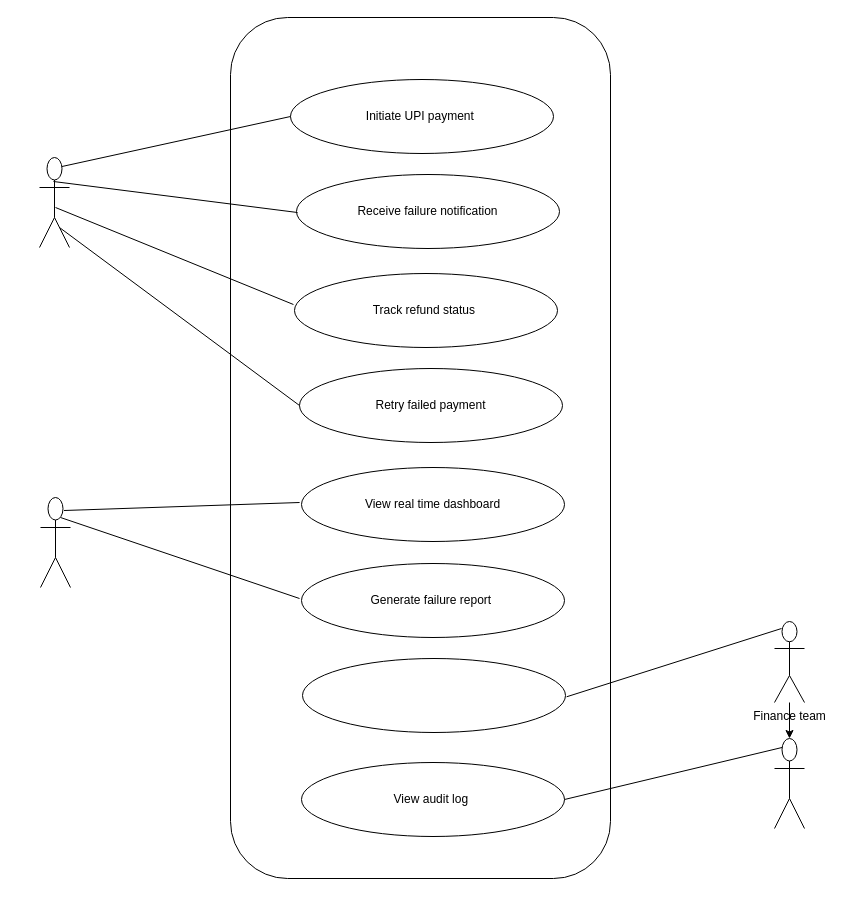
Image size: 856x904. Some labels were removed from this diagram. Each missing label, with the centre of its shape:
"Compliance officer" goes at point (789, 783).
"Customer" goes at point (54, 202).
"Ops manager" goes at point (55, 542).
"Process auto refund" goes at point (434, 695).
